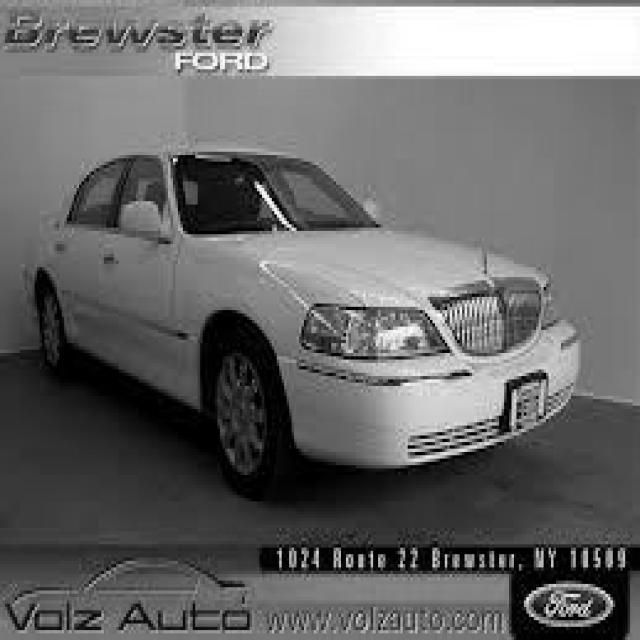car: (19, 145, 580, 498)
